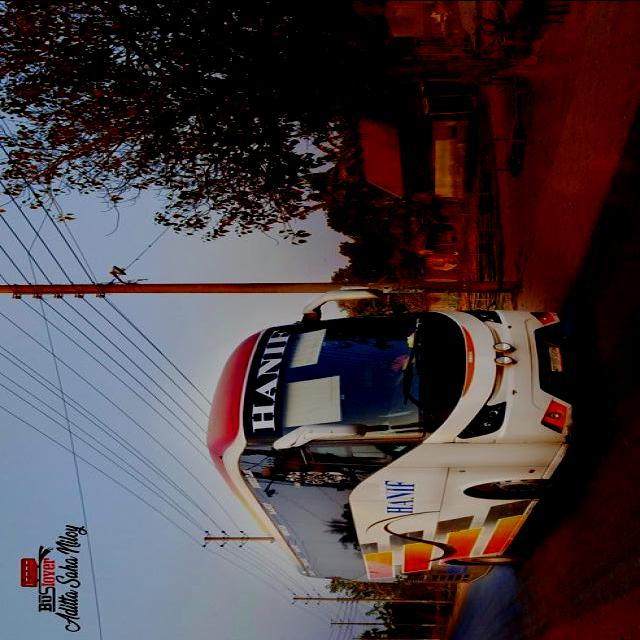bus: (203, 289, 578, 587)
